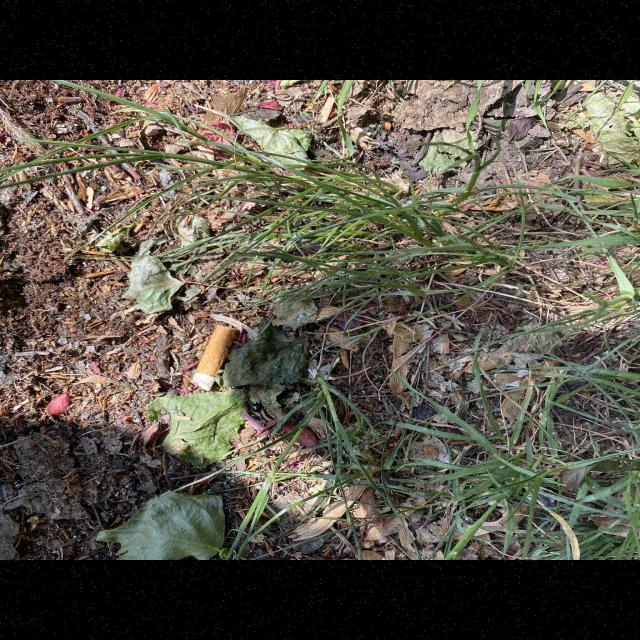other waste: (190, 324, 240, 392)
